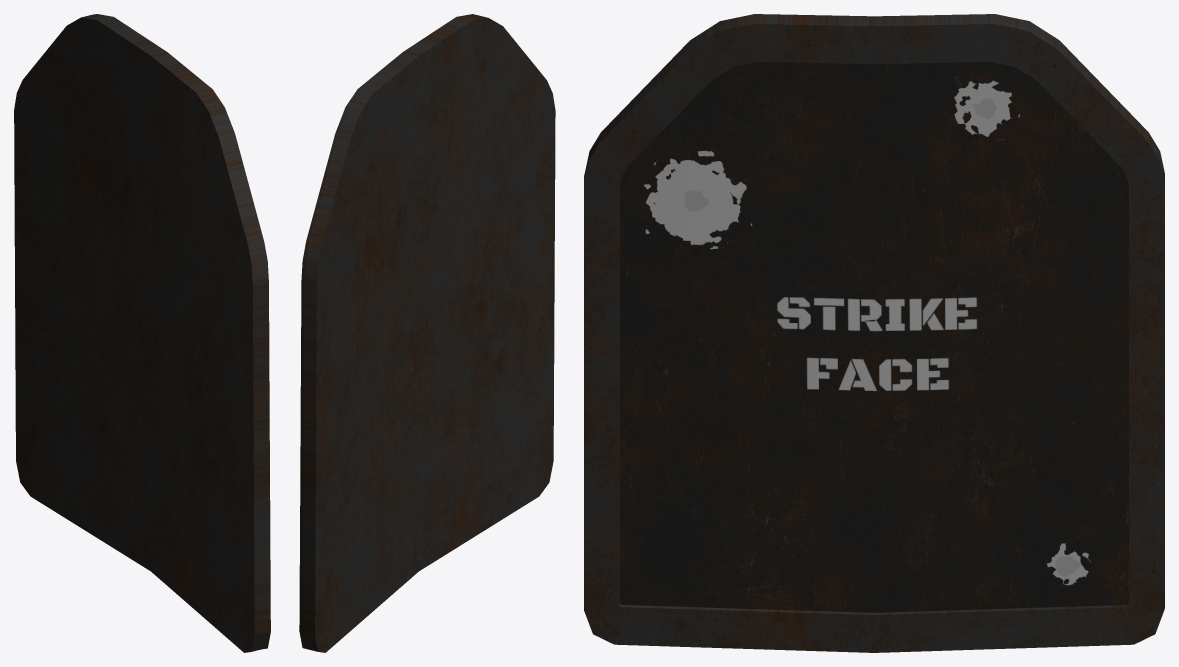
Rendered from armor_plate.glb.
3 renders of one model, left to right at view 1: azimuth 30°, elevation 25°; view 2: azimuth 150°, elevation 25°; view 3: azimuth 270°, elevation 25°, orthographic. The views are drawn at different scales.
Parts seen in each view (by area): view 1: Plane; view 2: Plane (×2); view 3: Plane (×2).
Boxes of the visible parts, x1=… form: Plane: x1=14, y1=14, x2=270, y2=652; Plane (×2): x1=299, y1=14, x2=555, y2=652; Plane (×2): x1=584, y1=14, x2=1164, y2=652.
Size of the model in its own units: 6.84 by 99.94 by 83.9.
2 materials, 2 textured.
